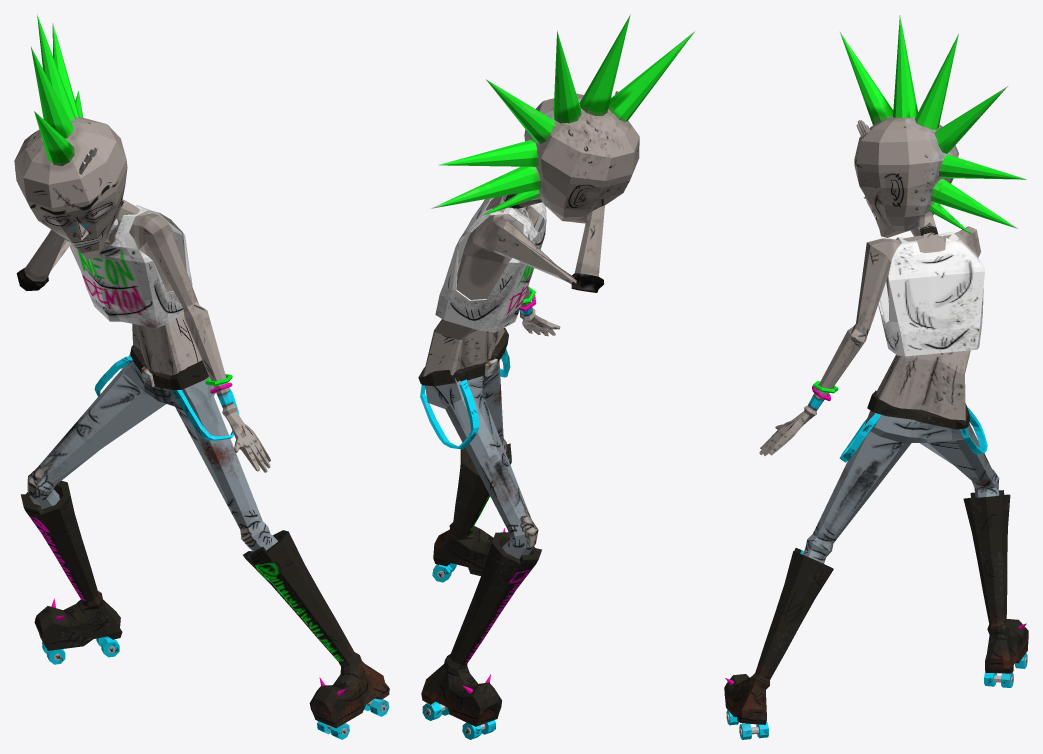
File: punkAnimation_000034.obj
3 renders of one model, left to right at view 1: azimuth 30°, elevation 25°; view 2: azimuth 150°, elevation 25°; view 3: azimuth 270°, elevation 25°, orthographic. The views are drawn at different scales.
Visible parts, largest first — view 1: Cube.004_Cube.003; view 2: Cube.004_Cube.003; view 3: Cube.004_Cube.003.
Boxes of the visible parts, x1,y1,x2,y2 form: Cube.004_Cube.003: [14, 14, 389, 739]; Cube.004_Cube.003: [418, 14, 694, 739]; Cube.004_Cube.003: [724, 15, 1028, 739].
Size of the model in its own units: 3.13 by 6.72 by 3.01.
